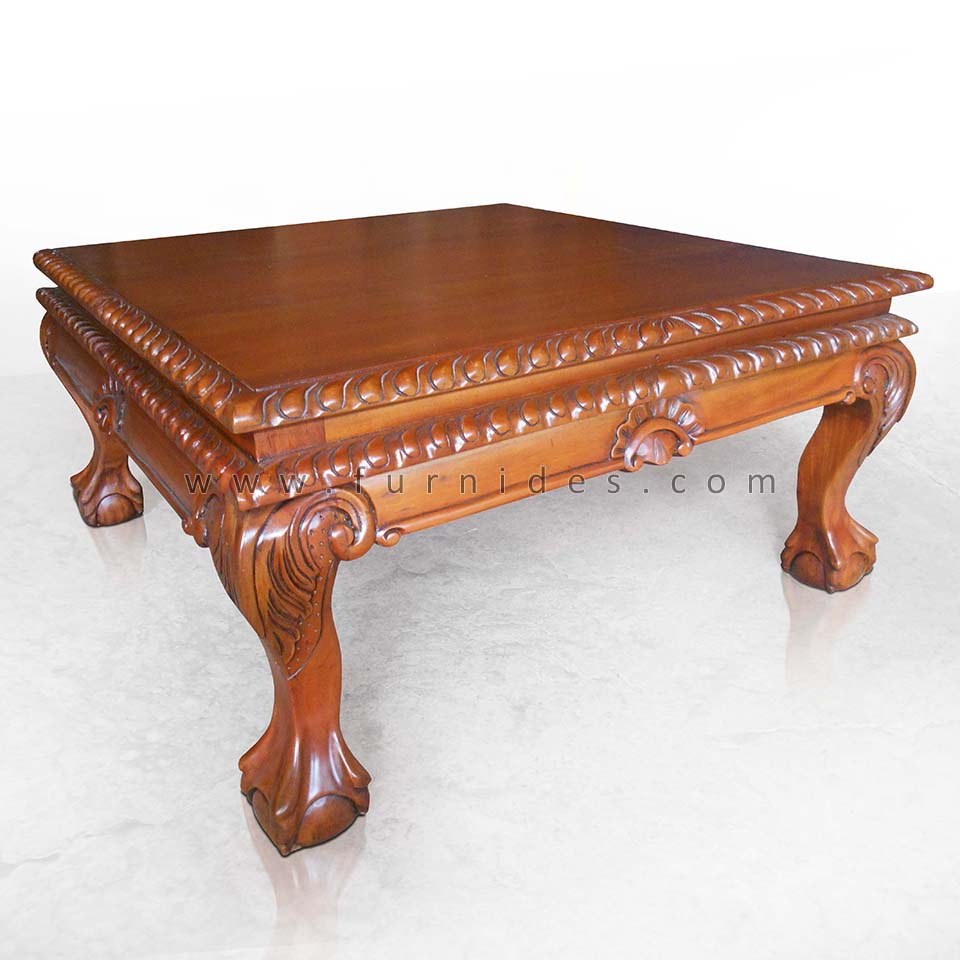Carving Table: (20, 194, 922, 865)
